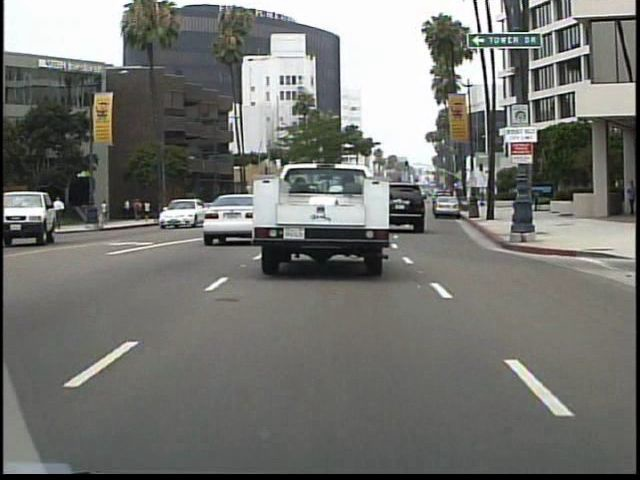person: (39, 200, 56, 237), (622, 174, 636, 216), (58, 194, 65, 231), (531, 187, 540, 213), (103, 197, 110, 225)
